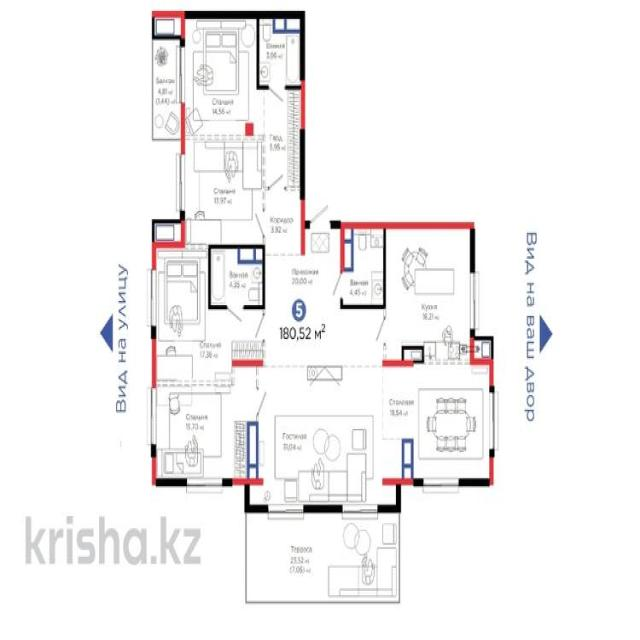balcony: (246, 508, 400, 602), (152, 10, 185, 141)
bathroom: (341, 221, 385, 309), (209, 244, 265, 310), (257, 10, 303, 90)
hallway: (262, 86, 385, 365)
kitchen: (384, 222, 474, 366)
living_room: (244, 363, 413, 510), (152, 244, 264, 378), (382, 363, 492, 482), (153, 377, 258, 482), (184, 10, 259, 140), (181, 138, 263, 248)
